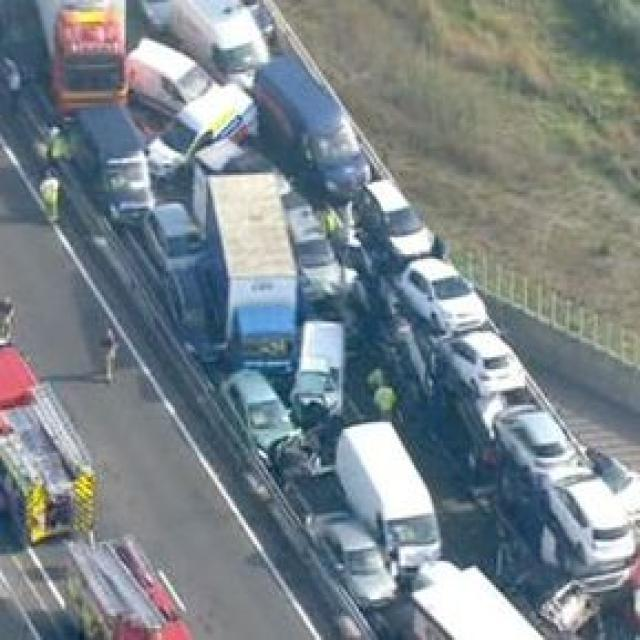traffic_incident: (27, 5, 638, 587)
